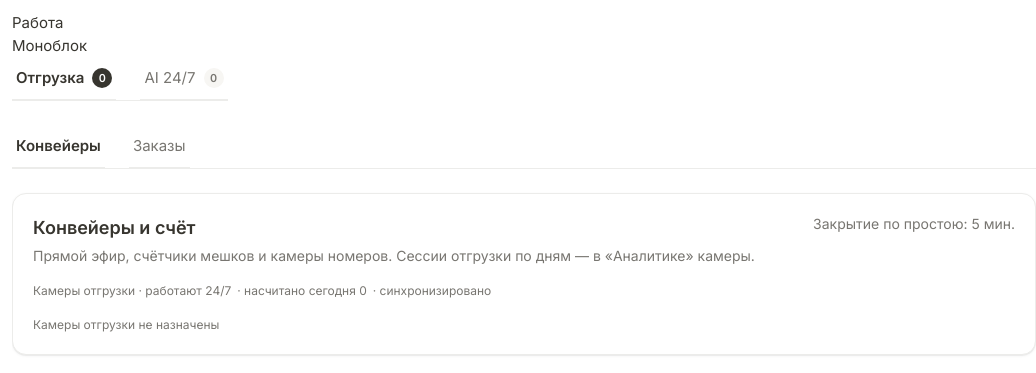
Test: доступ к AI 24/7 на странице моноблока › показывает мониторинг и загружает его данные обычному сотруднику
Click the tab "AI 24/7 0".
click(184, 79)  # box [140,57,228,101]
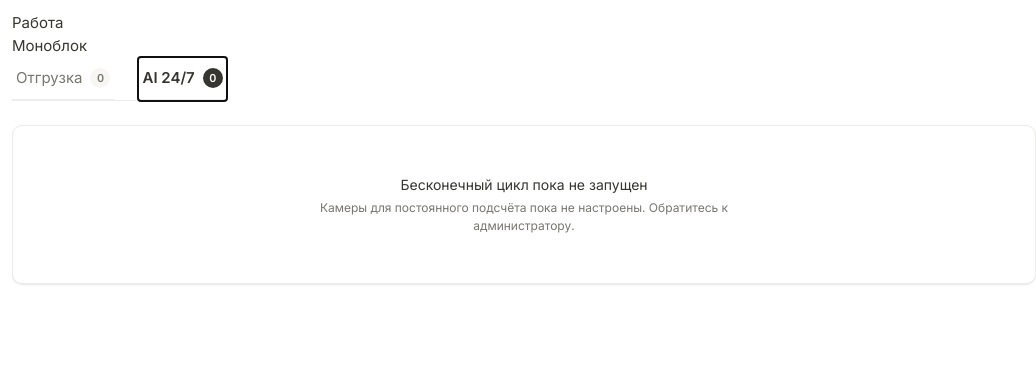
Check: the text "Бесконечный цикл пока не запущен" is shown, box [400,176,648,193]
